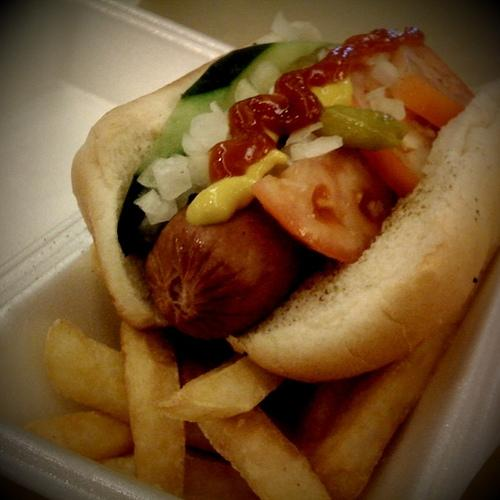cucumber: (117, 41, 327, 260)
onion: (182, 100, 228, 156), (152, 156, 192, 201), (134, 190, 178, 224), (290, 135, 344, 162), (366, 86, 406, 120), (249, 64, 281, 94), (286, 122, 322, 146), (371, 60, 400, 86), (189, 153, 211, 186), (136, 158, 160, 188), (290, 22, 324, 42), (234, 78, 258, 102), (352, 83, 372, 110), (366, 52, 392, 66), (138, 215, 160, 231), (256, 32, 285, 44), (401, 134, 419, 152), (306, 132, 318, 140)
tomato: (251, 148, 403, 262), (350, 72, 440, 198), (386, 46, 475, 128)
